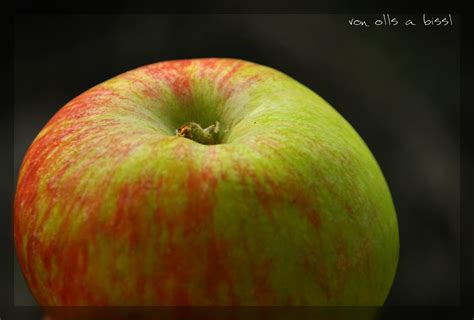apple: (14, 54, 406, 320)
